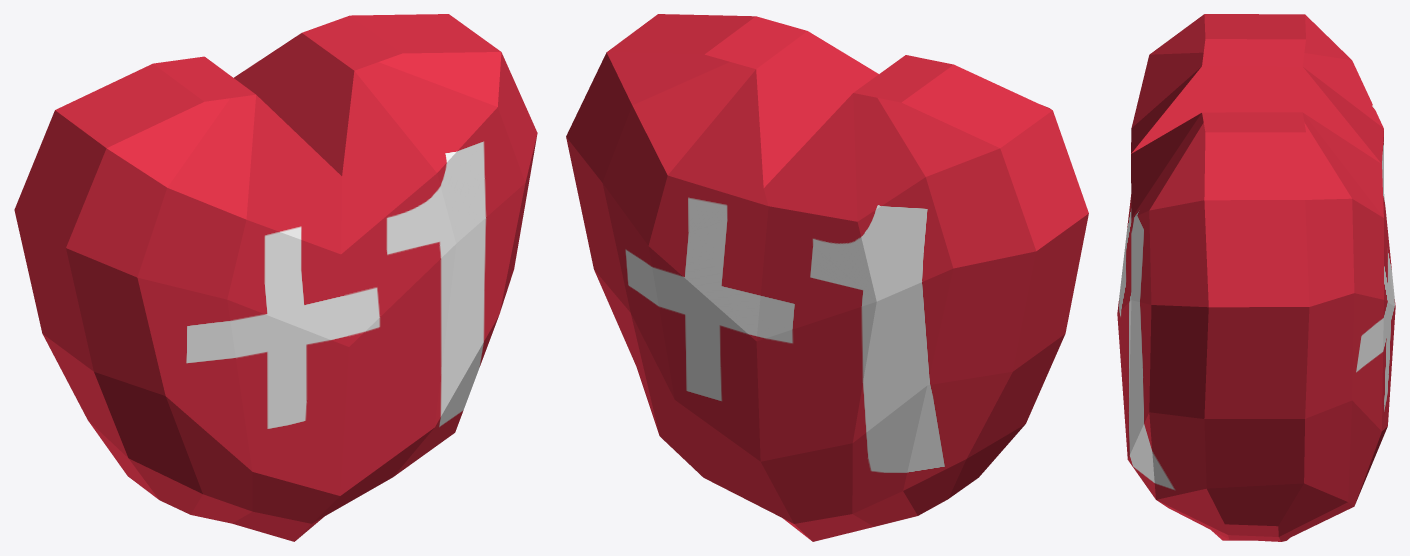
Rendered from heart.fbx.
The picture shows the model from 3 angles, left to right: view 1: azimuth 30°, elevation 25°; view 2: azimuth 150°, elevation 25°; view 3: azimuth 270°, elevation 25°; orthographic projection. The views are drawn at different scales.
Visible parts, largest first — view 1: Plane; view 2: Plane; view 3: Plane.
Part boxes in pixels (x1,y1,x2,y2): Plane: (14, 14, 537, 541); Plane: (566, 14, 1088, 541); Plane: (1117, 14, 1395, 541).
Bounding box in the file's own units: 32.45 × 17.17 × 30.97.
Materials: 1 (1 with a texture image).
